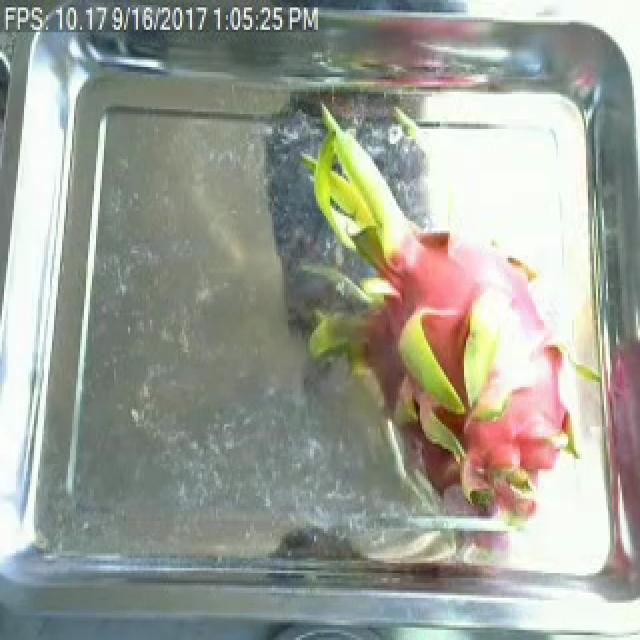fruit: (288, 136, 610, 544)
